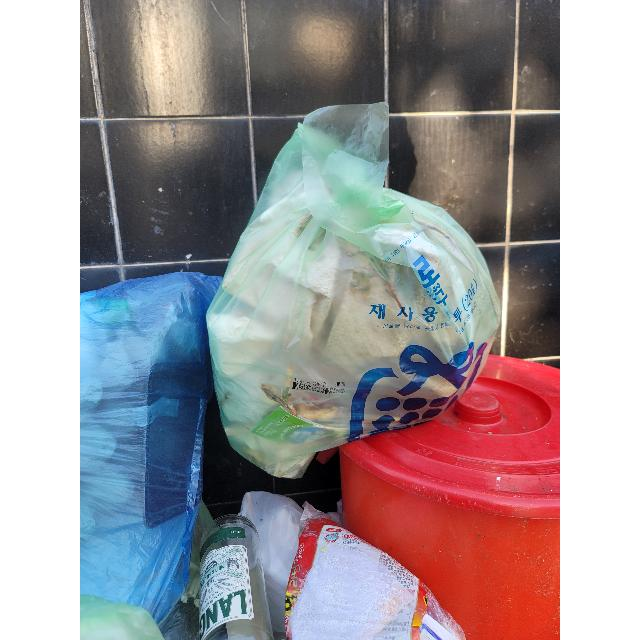general_trashbag: (208, 104, 499, 482)
other_trashbag: (80, 269, 219, 626)
